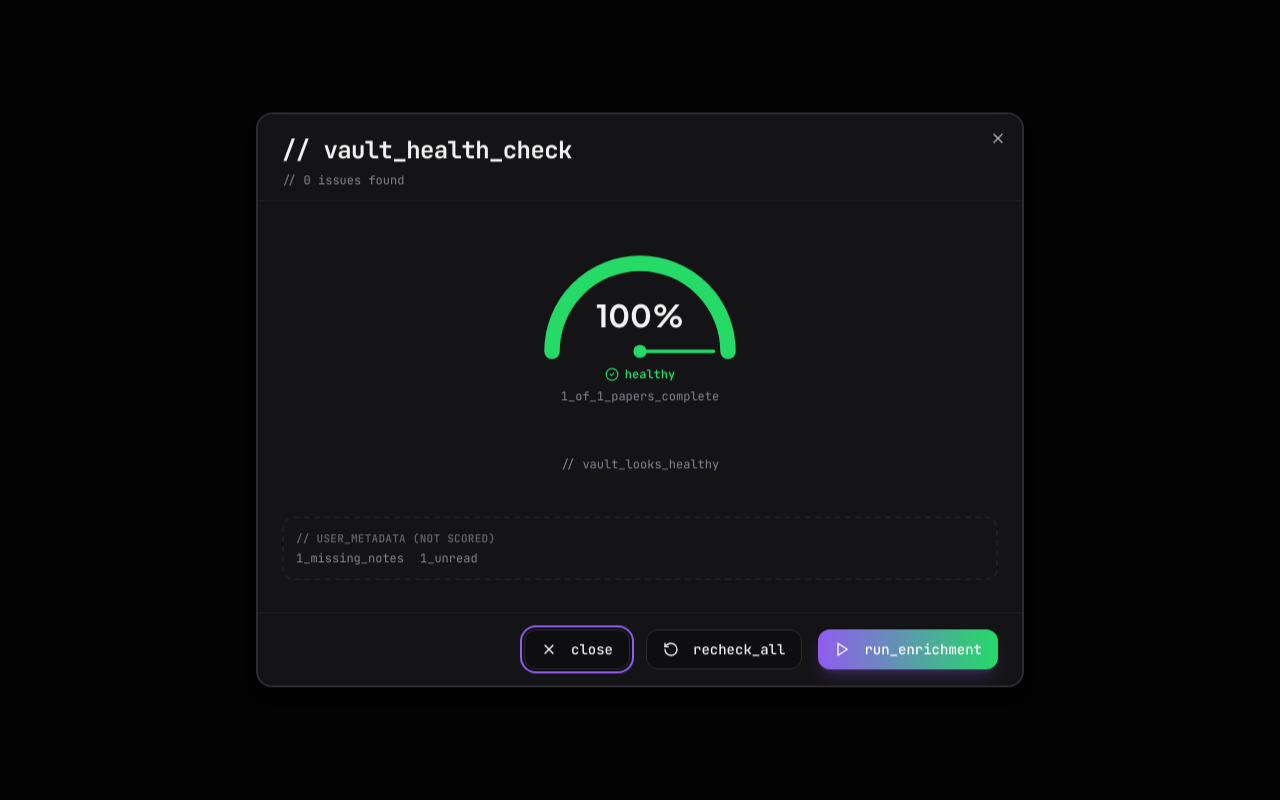
Test: VaultHealthCheckDialog › does not render a failure banner when every lookup succeeded
Click the button "run_enrichment".
click(908, 650)  # box [818,630,998,670]
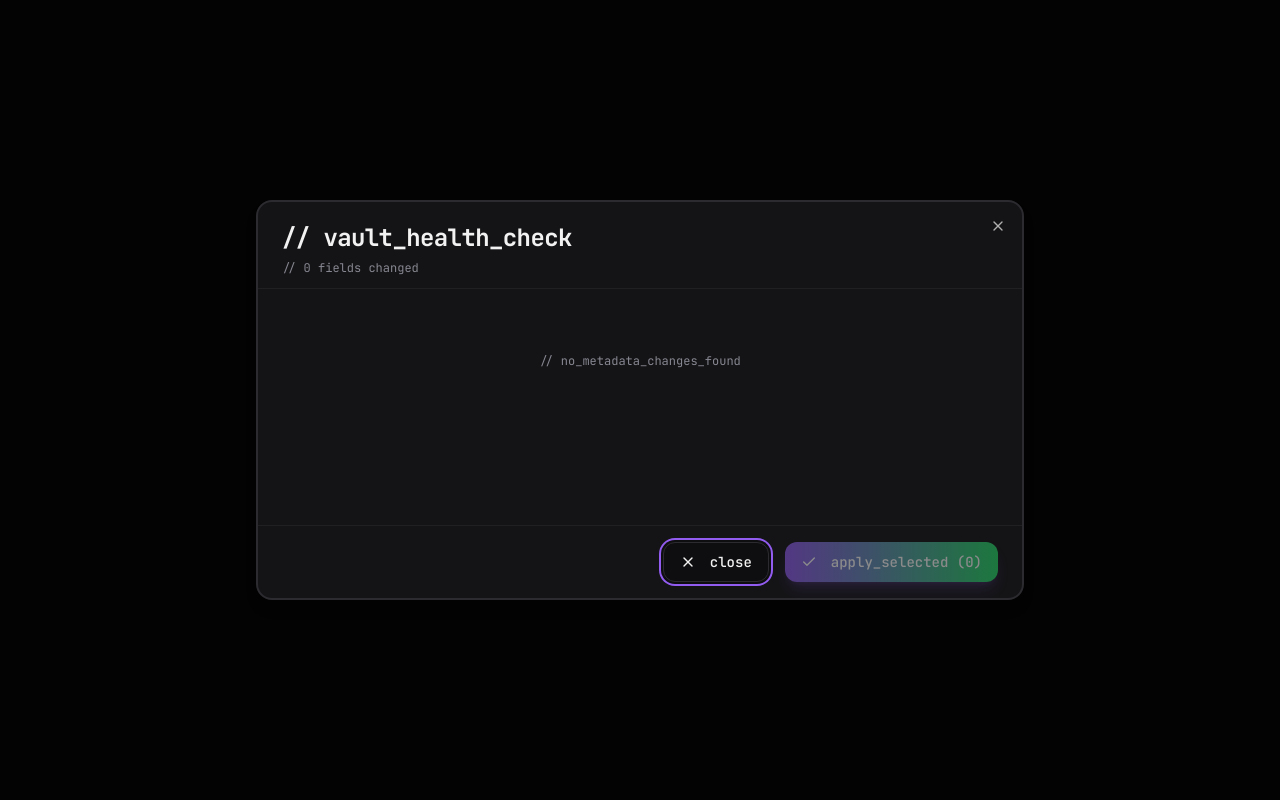
Result: the text "// no_metadata_changes_found" is shown at [539,353,741,369]
